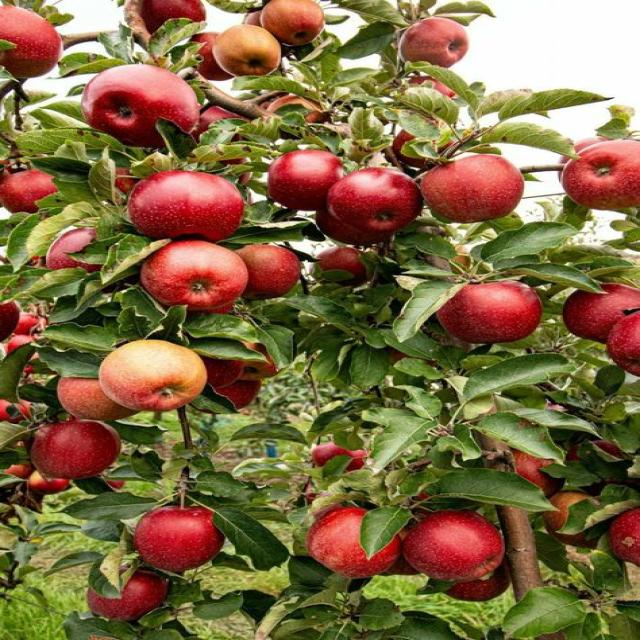Tao: (82, 64, 202, 150), (416, 140, 524, 228), (424, 272, 548, 347), (411, 512, 521, 594), (92, 339, 206, 414), (326, 165, 431, 243), (541, 138, 640, 220), (299, 505, 409, 574), (115, 506, 236, 566), (152, 250, 248, 316), (24, 423, 144, 474), (42, 367, 138, 428), (69, 564, 166, 622), (0, 158, 88, 220), (35, 232, 128, 286), (0, 0, 59, 83), (385, 12, 468, 69), (563, 281, 640, 340), (263, 150, 342, 204), (215, 24, 286, 84), (511, 436, 576, 499), (529, 491, 605, 544), (232, 243, 301, 300), (254, 0, 323, 49), (305, 247, 386, 286), (10, 304, 60, 366), (219, 334, 282, 383), (127, 0, 205, 37), (212, 379, 282, 418), (317, 437, 378, 479), (610, 497, 640, 568), (605, 314, 640, 374)
